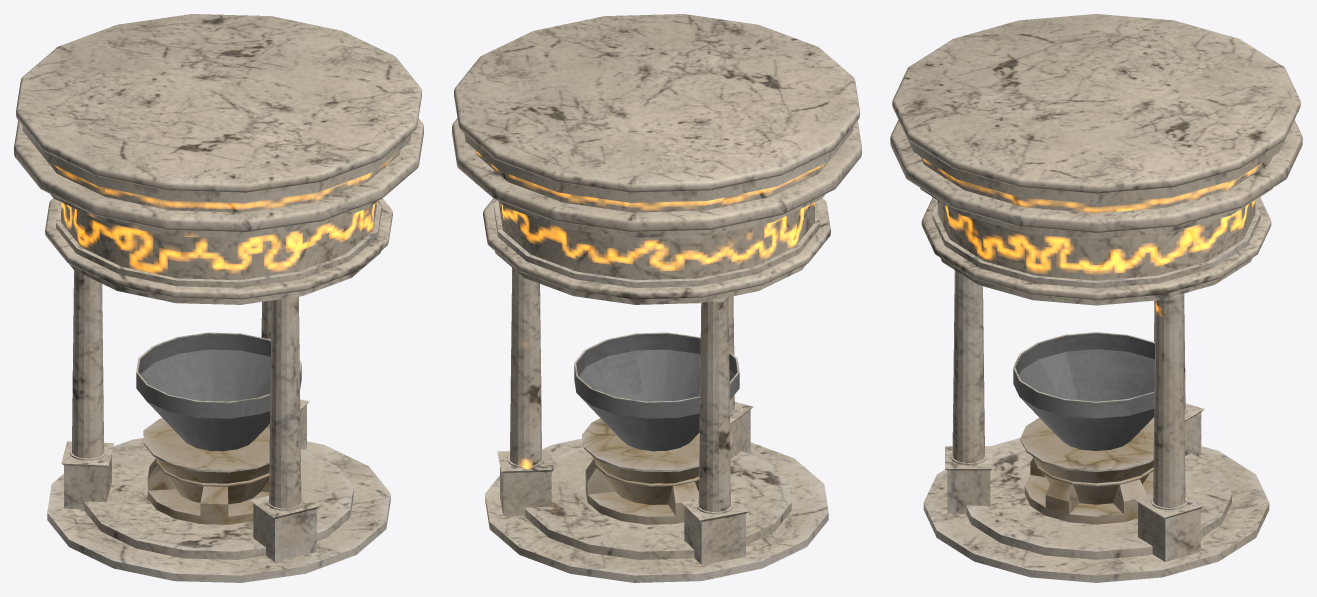
The model's file is altar.glb.
3 views of the same model, side by side, from view 1: azimuth 30°, elevation 25°; view 2: azimuth 150°, elevation 25°; view 3: azimuth 270°, elevation 25° (orthographic).
Visible parts, largest first — view 1: Ceiling, Floor, Brazier, Brazier Stand, Pillar 3, Pillar, Pillar Stand 3, Pillar Stand; view 2: Ceiling, Floor, Brazier, Brazier Stand, Pillar, Pillar 2, Pillar Stand, Pillar Stand 2, Pillar Stand 3; view 3: Ceiling, Floor, Brazier, Brazier Stand, Pillar 2, Pillar 3, Pillar Stand 2, Pillar Stand 3, Pillar Stand.
Part boxes in pixels (bbox=[...]): Ceiling: bbox=[14, 14, 423, 304]; Floor: bbox=[47, 438, 390, 582]; Brazier: bbox=[136, 332, 301, 451]; Brazier Stand: bbox=[143, 418, 269, 524]; Pillar 3: bbox=[267, 296, 303, 510]; Pillar: bbox=[70, 270, 105, 460]; Pillar Stand 3: bbox=[250, 492, 319, 561]; Pillar Stand: bbox=[61, 441, 114, 509]; Ceiling: bbox=[452, 14, 861, 304]; Floor: bbox=[485, 438, 828, 582]; Brazier: bbox=[574, 332, 739, 451]; Brazier Stand: bbox=[582, 418, 732, 524]; Pillar: bbox=[696, 297, 732, 514]; Pillar 2: bbox=[508, 268, 543, 468]; Pillar Stand: bbox=[681, 494, 748, 564]; Pillar Stand 2: bbox=[497, 449, 554, 516]; Pillar Stand 3: bbox=[730, 402, 753, 458]; Ceiling: bbox=[890, 14, 1302, 305]; Floor: bbox=[923, 438, 1269, 582]; Brazier: bbox=[1013, 332, 1154, 450]; Brazier Stand: bbox=[1020, 417, 1153, 524]; Pillar 2: bbox=[1151, 293, 1187, 510]; Pillar 3: bbox=[950, 270, 986, 465]; Pillar Stand 2: bbox=[1135, 494, 1203, 561]; Pillar Stand 3: bbox=[945, 446, 992, 513]; Pillar Stand: bbox=[1184, 403, 1204, 456].
Size of the model in its own units: 5.75 by 6.32 by 5.75.
1 material, 1 textured.
